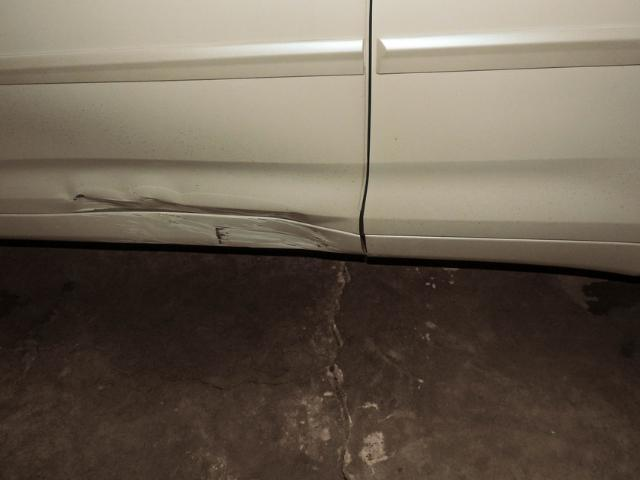Door: (40, 168, 354, 266)
